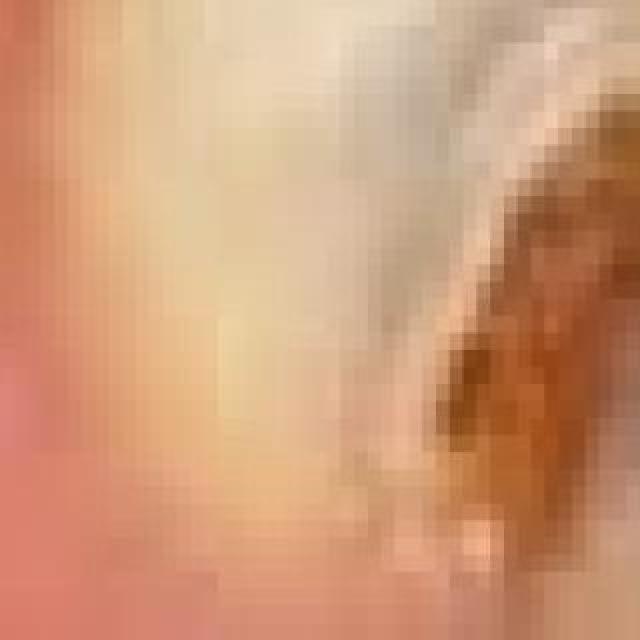cavities: (326, 0, 640, 640)
